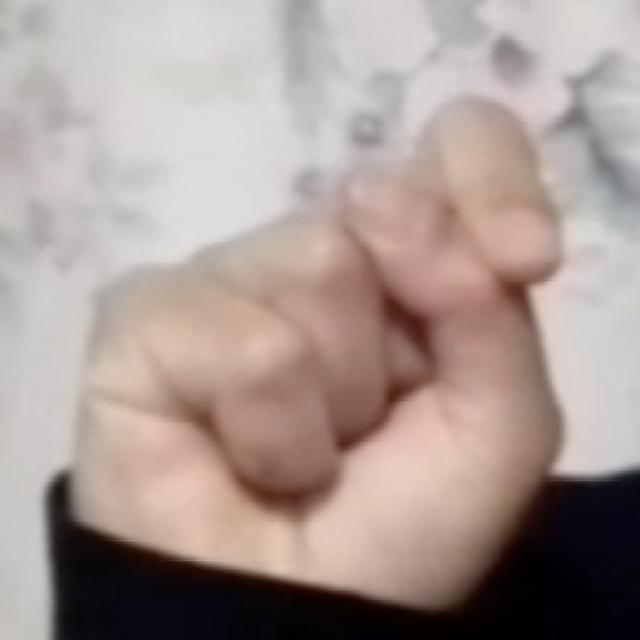T: (55, 74, 611, 606)
